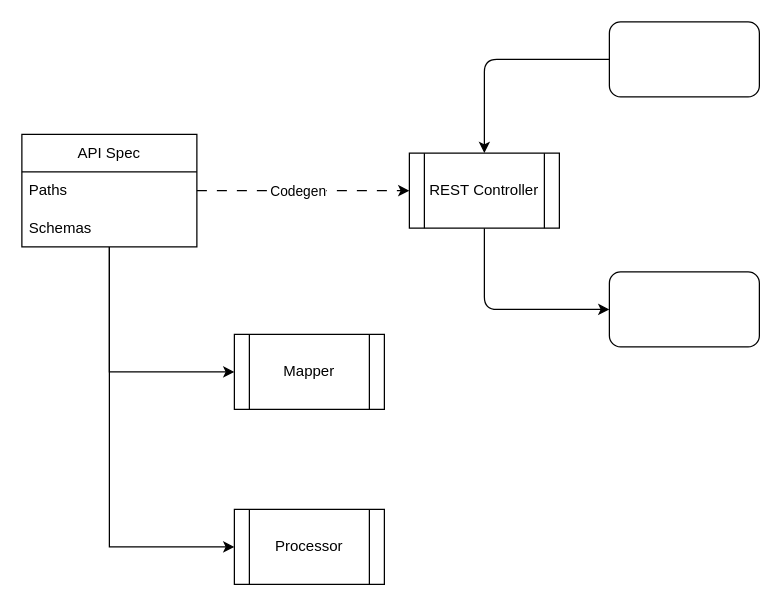
Some shapes in this 781 by 606 pixel diagram are drawn without their labels. The centre of each missing label's shape, as x and y in pixels:
DTO In: (683,59)
DTO Out: (683,309)
